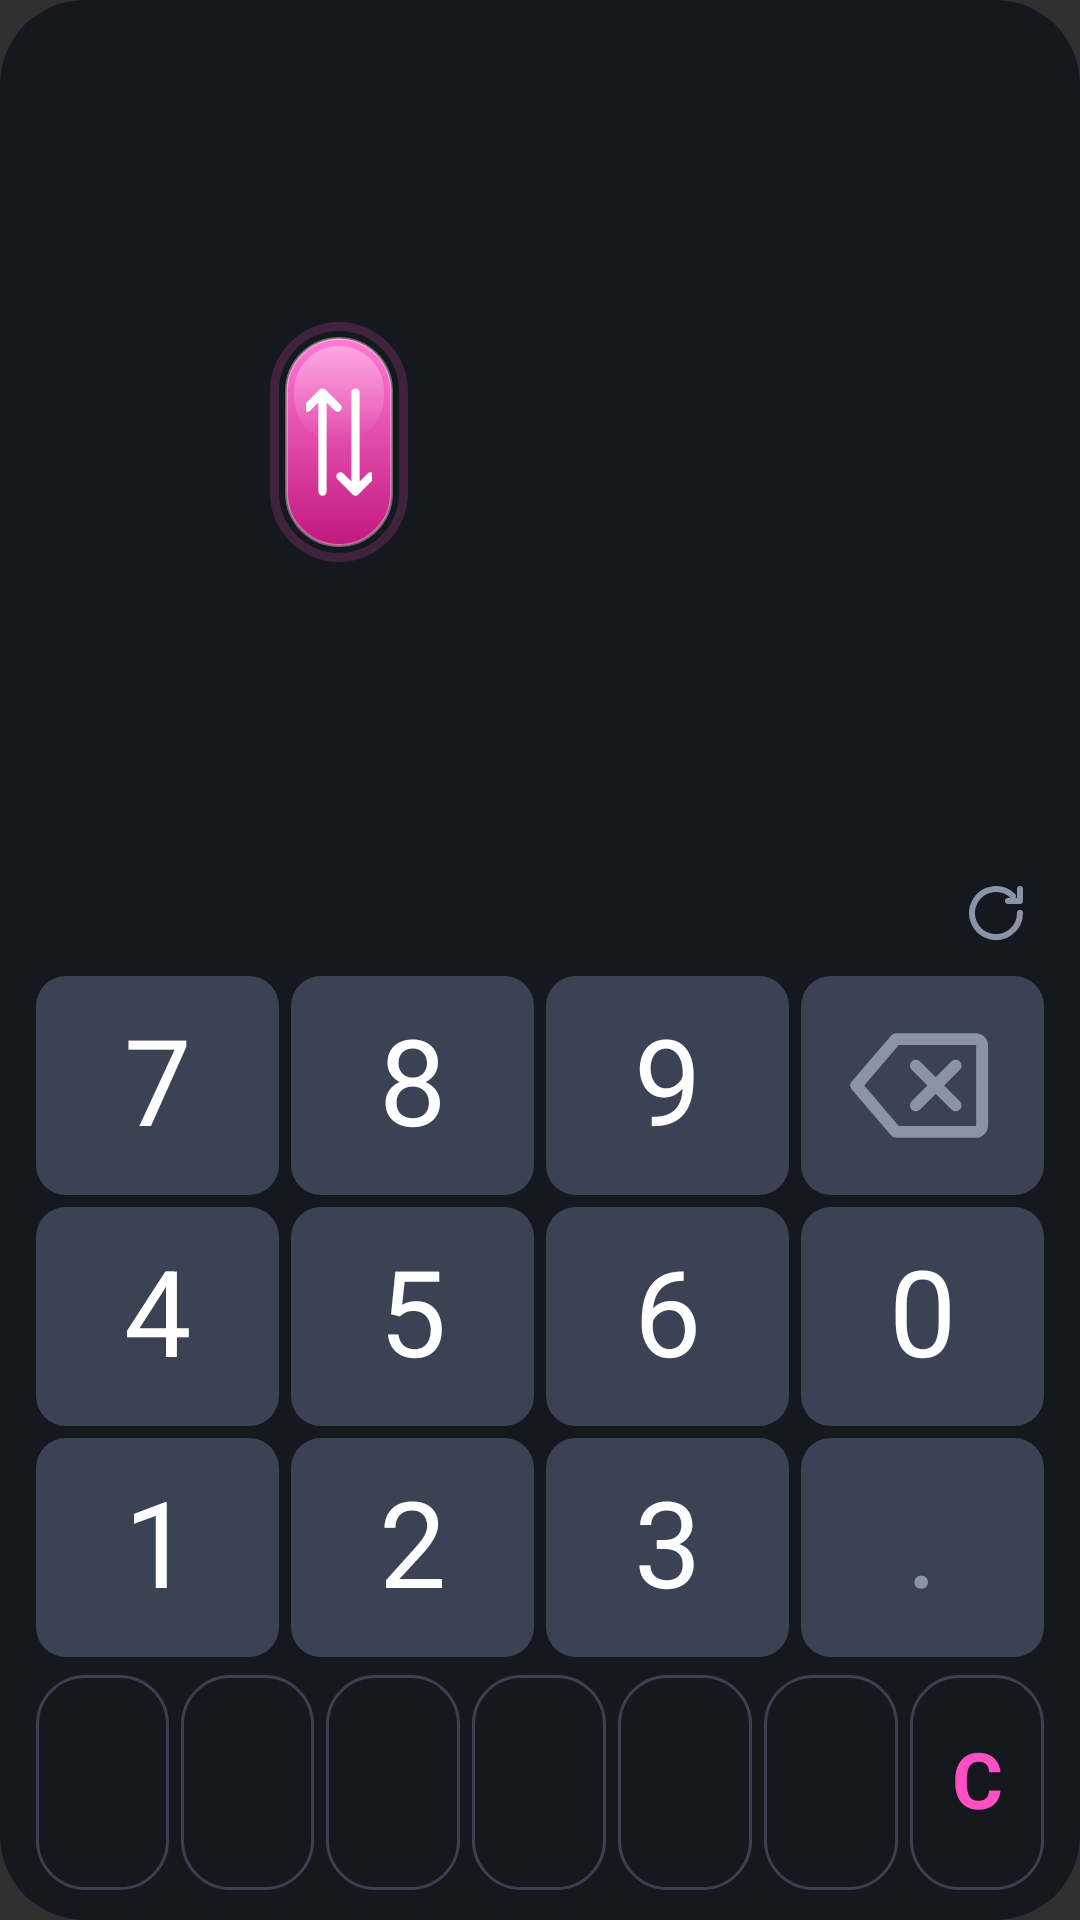

Icon click points for this 1080w x 1920h phone screenshot, format (x=x, y=y):
backspace: (x=922, y=1085)
refresh: (x=996, y=913)
swap: (x=339, y=442)
